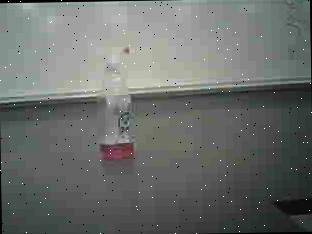hazard: (94, 47, 143, 164)
